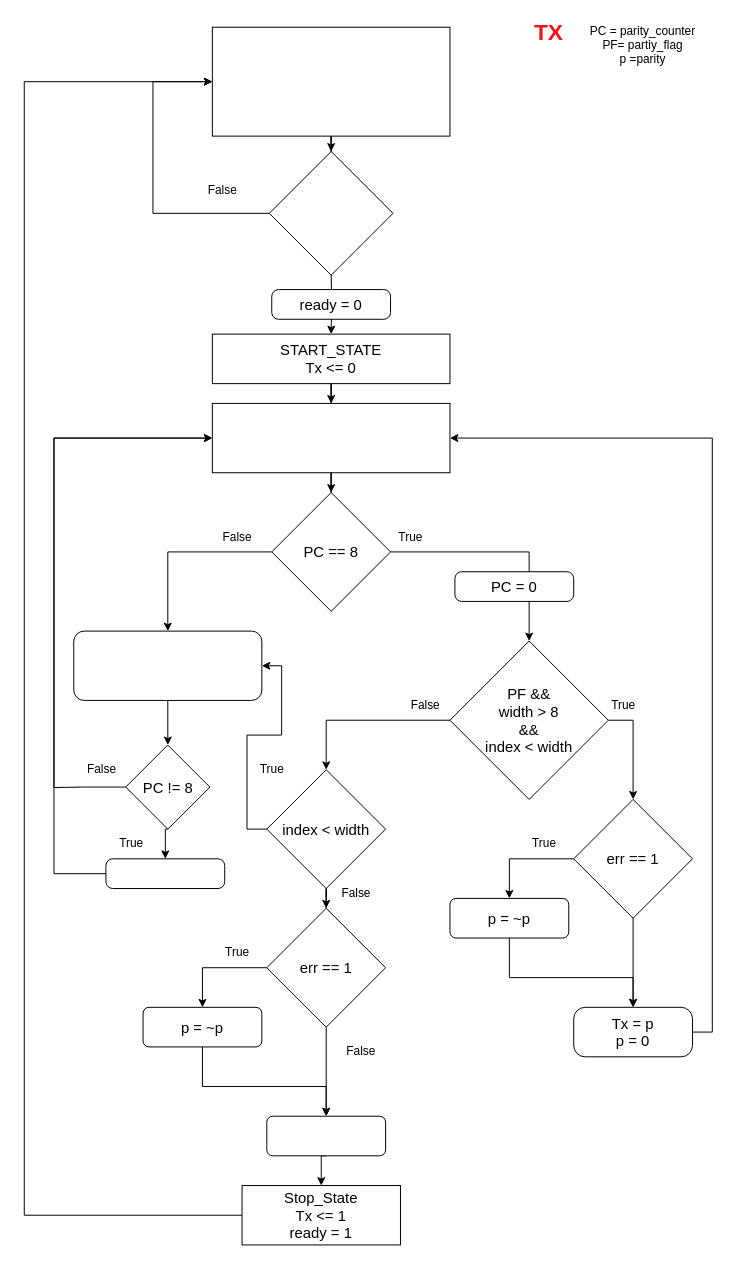
This 738x1262 diagram has some shape labels left out. The shapes that lost their labels are listed below. From the top down, each one's centre as x and y in pixels, then its label:
At point 330,81: "IDLE_STATE ready <= 1 index <= 0 PC <= 0 p <= 0".
At point 330,212: "valid ==1".
At point 330,437: "DATA_STATE".
At point 167,665: "Tx = input [ index ] p = p ^ input [ index ] index++".
At point 165,873: "PC++".
At point 326,1135: "Tx = p".
